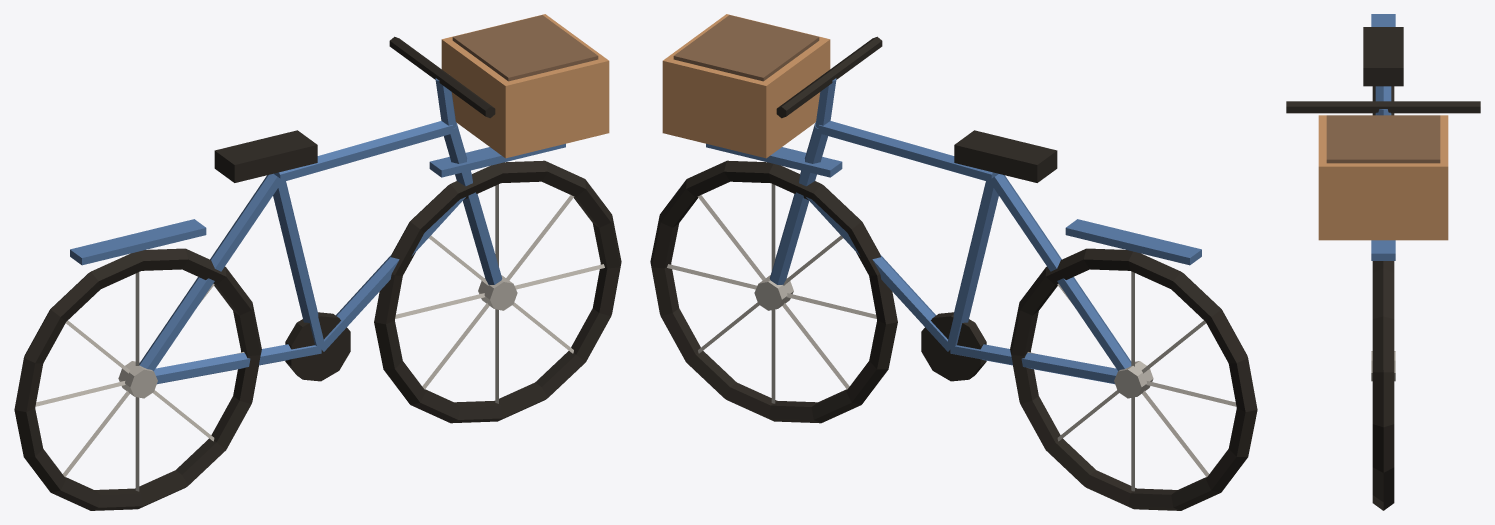
Rendered from bicycle.glb.
3 views of the same model, side by side, from view 1: azimuth 30°, elevation 25°; view 2: azimuth 150°, elevation 25°; view 3: azimuth 270°, elevation 25° (orthographic).
Parts seen in each view (by area): view 1: bicycle; view 2: bicycle; view 3: bicycle.
Boxes of the visible parts, x1,y1,x2,y2 form: bicycle: [14, 14, 621, 510]; bicycle: [650, 14, 1257, 510]; bicycle: [1286, 14, 1480, 510].
Bounding box in the file's own units: 1.76 × 1.02 × 0.48.
